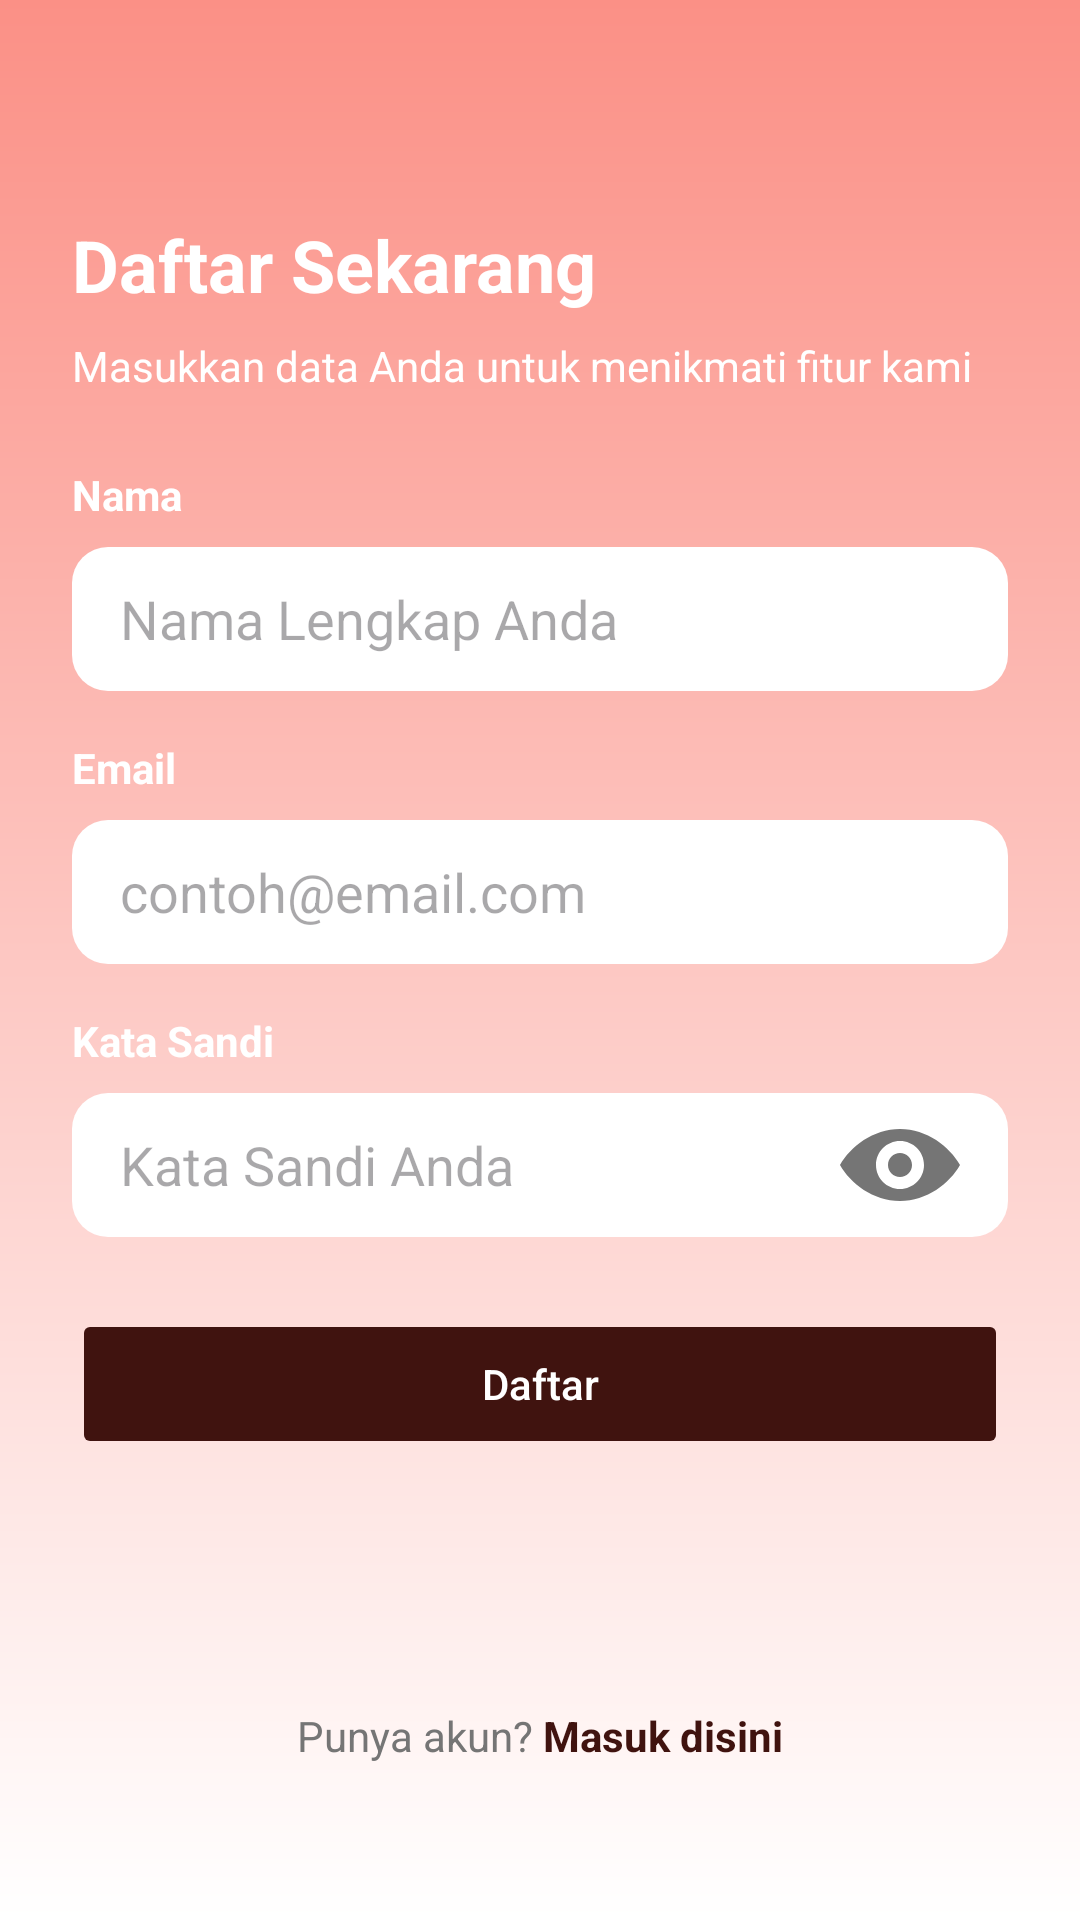

Where icons sit on this 1080w x 1920h app screen, as (x1, y1, x2, y2):
Toggle Password Visibility: (840, 1129, 960, 1201)
